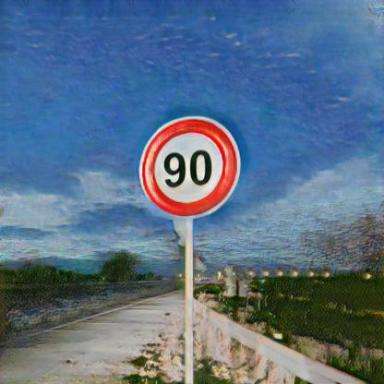Speed_limit_90: (144, 115, 237, 219)
